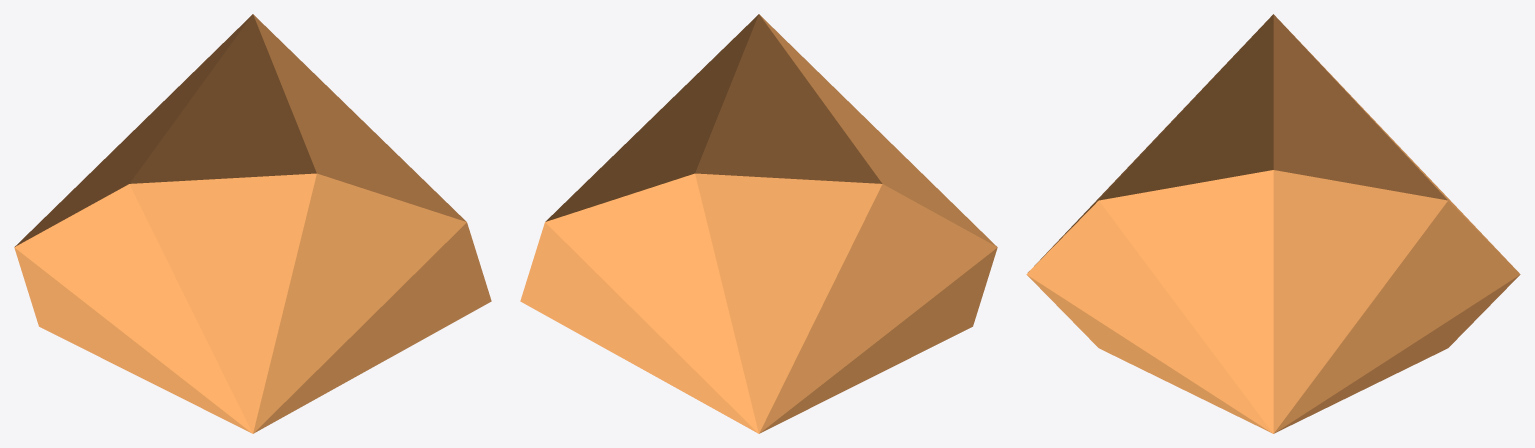
The picture shows the model from 3 angles, left to right: view 1: azimuth 30°, elevation 25°; view 2: azimuth 150°, elevation 25°; view 3: azimuth 270°, elevation 25°; orthographic projection.
Visible parts, largest first — view 1: gem; view 2: gem; view 3: gem.
Boxes of the visible parts, box(x1,y1,x2,y2) form: gem: box(14, 14, 491, 433); gem: box(520, 14, 997, 433); gem: box(1026, 14, 1520, 433).
Bounding box in the file's own units: 320 × 300 × 320.
